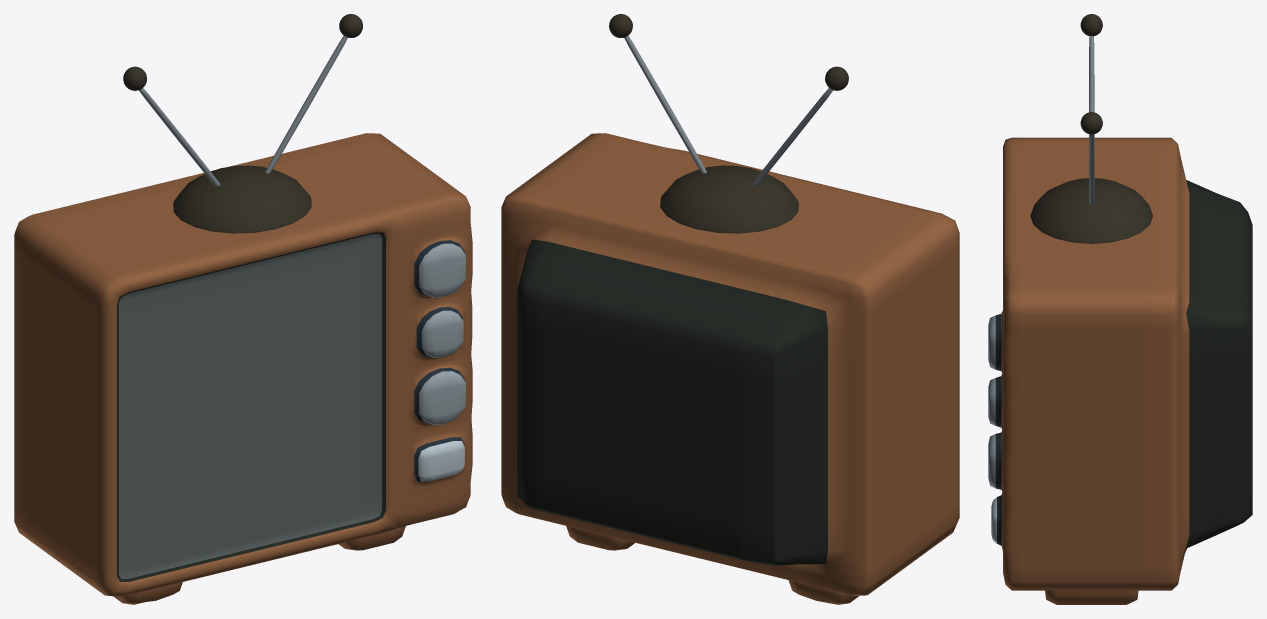
3 views of the same model, side by side, from view 1: azimuth 30°, elevation 25°; view 2: azimuth 150°, elevation 25°; view 3: azimuth 270°, elevation 25° (orthographic). The views are drawn at different scales.
Visible parts, largest first — view 1: pSphere4; view 2: pSphere4; view 3: pSphere4.
Boxes of the visible parts, x1,y1,x2,y2 form: pSphere4: (14, 14, 472, 604); pSphere4: (501, 14, 959, 604); pSphere4: (988, 14, 1252, 604).
Bounding box in the file's own units: 13.36 × 17.87 × 8.88.
